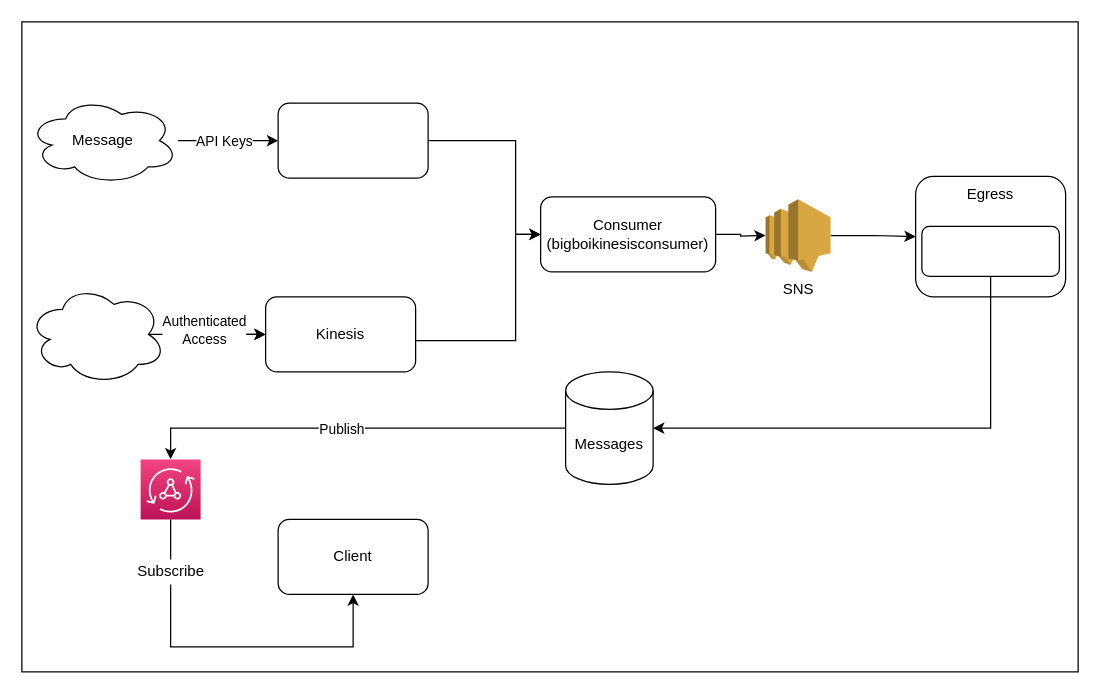
The diagram is 1100 pixels wide and 694 high, and some of its shapes have lost their labels. The box of each missing label's shape, as (x1, y1, x2, y2) in pixels:
API Gateway: (277, 102, 428, 178)
Internal Message: (27, 283, 166, 384)
MessageStore: (921, 225, 1059, 276)
